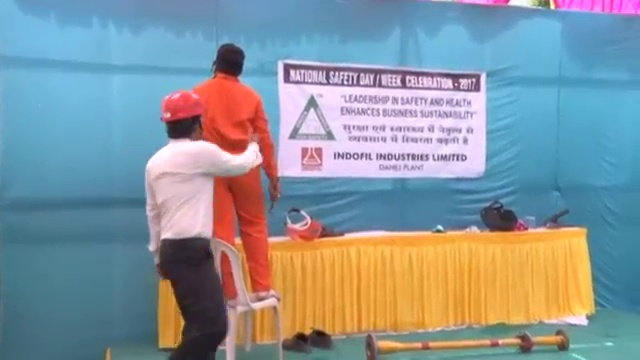helmet: (158, 87, 207, 122)
helmet_off: (209, 43, 249, 82)
helmet_on: (158, 89, 207, 140)
person: (141, 84, 262, 360), (190, 42, 288, 300)
